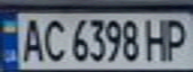3: (87, 16, 109, 63)
6: (66, 16, 90, 63)
8: (121, 16, 142, 63)
9: (103, 16, 124, 63)
A: (18, 15, 48, 64)
C: (39, 16, 69, 63)
H: (142, 15, 172, 62)
P: (160, 15, 193, 62)
